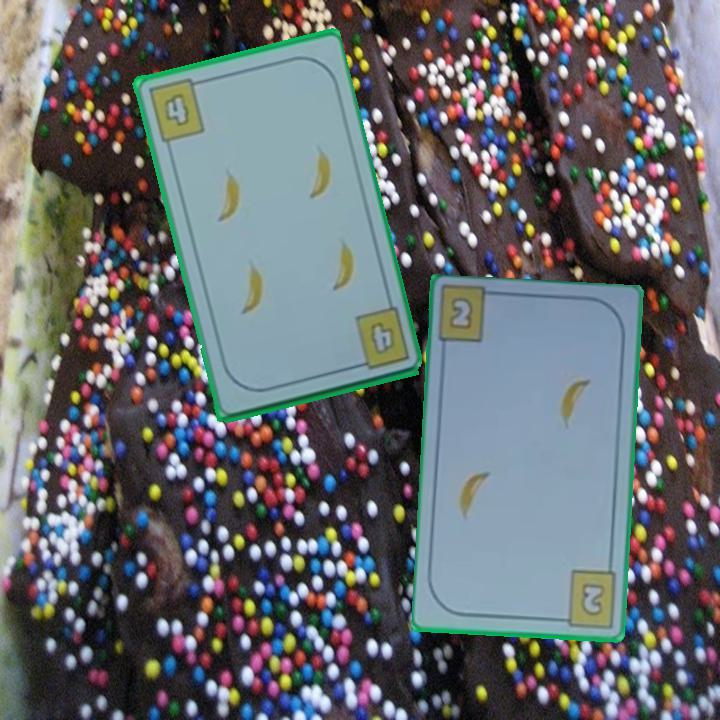2b: (552, 566, 620, 630), (445, 293, 476, 333)
4b: (347, 304, 412, 373), (144, 75, 207, 146)
